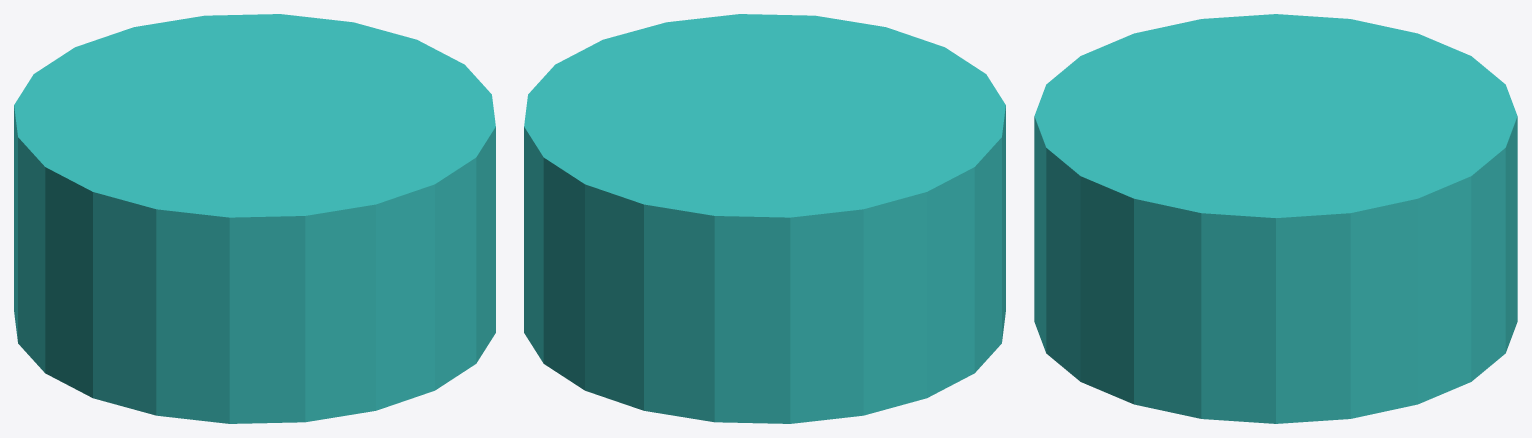
The picture shows the model from 3 angles, left to right: view 1: azimuth 30°, elevation 25°; view 2: azimuth 150°, elevation 25°; view 3: azimuth 270°, elevation 25°; orthographic projection.
Visible parts, largest first — view 1: Cylinder; view 2: Cylinder; view 3: Cylinder.
Part boxes in pixels (x1,y1,x2,y2): Cylinder: (14, 14, 495, 423); Cylinder: (524, 14, 1005, 423); Cylinder: (1034, 14, 1517, 423).
Size of the model in its own units: 2 by 0.94 by 2.
